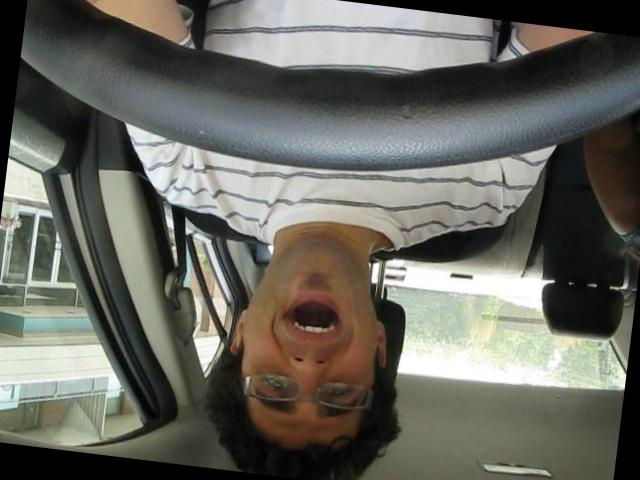eye_open: (257, 376, 299, 396), (319, 384, 356, 404)
face: (230, 234, 389, 450)
mouth_open: (278, 288, 350, 346)
